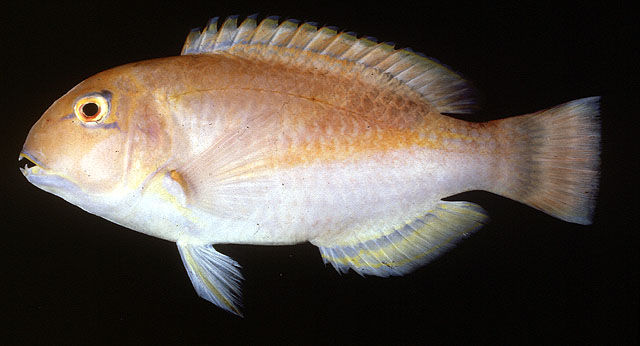fish: (19, 16, 603, 314)
